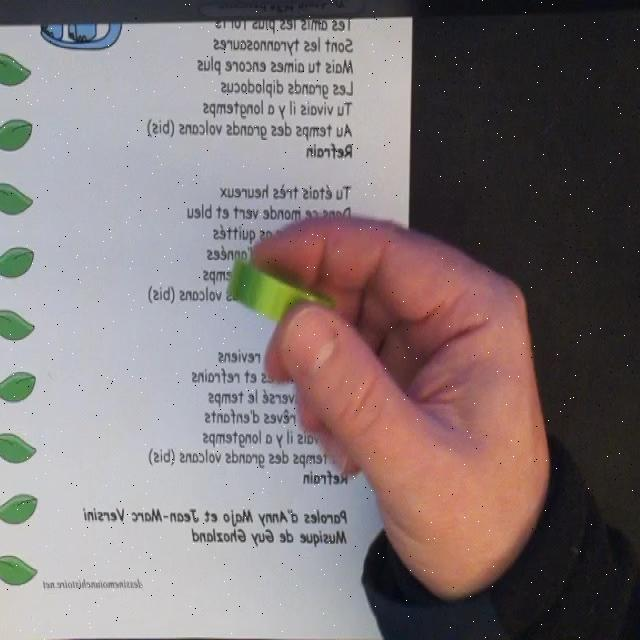round: (227, 258, 336, 334)
